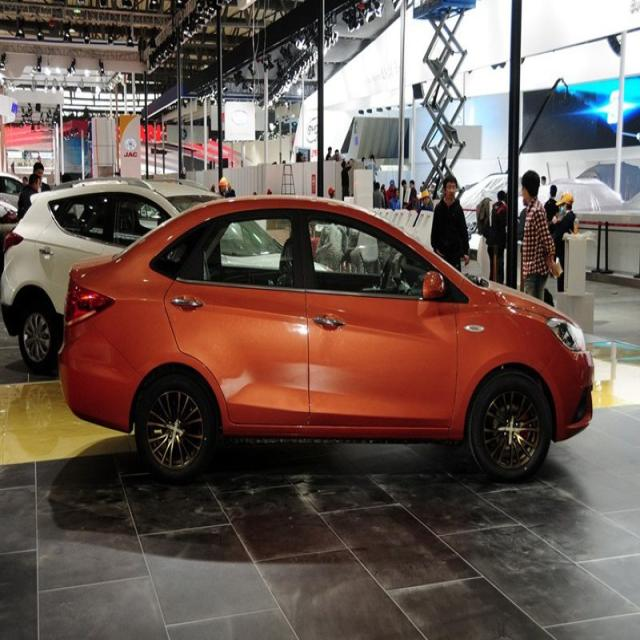back_right_side_light: (63, 276, 115, 330)
door: (164, 206, 310, 434)
front_bumper: (533, 352, 598, 444)
front_right_side_door: (294, 202, 460, 433)
front_right_side_light: (543, 312, 587, 356)
front_right_side_mirror: (418, 266, 447, 305)
rear_bumper: (59, 323, 139, 436)
wheel: (468, 371, 552, 473), (134, 375, 216, 473)
